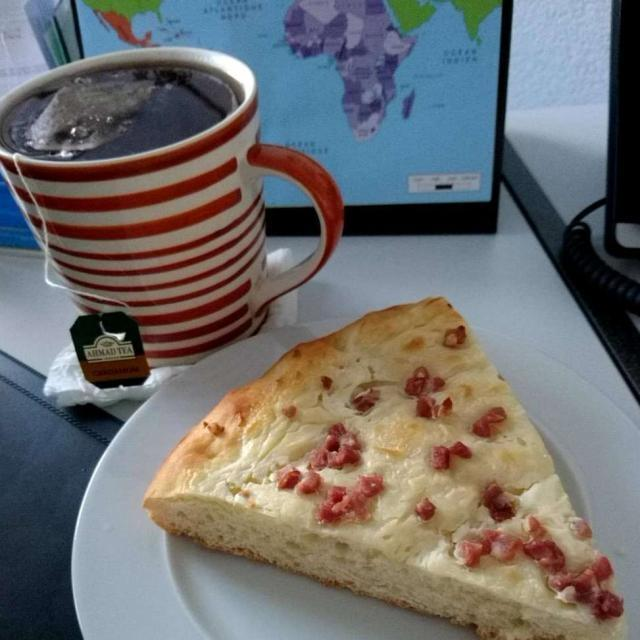bacon: (282, 357, 615, 627)
tea: (9, 66, 226, 179)
